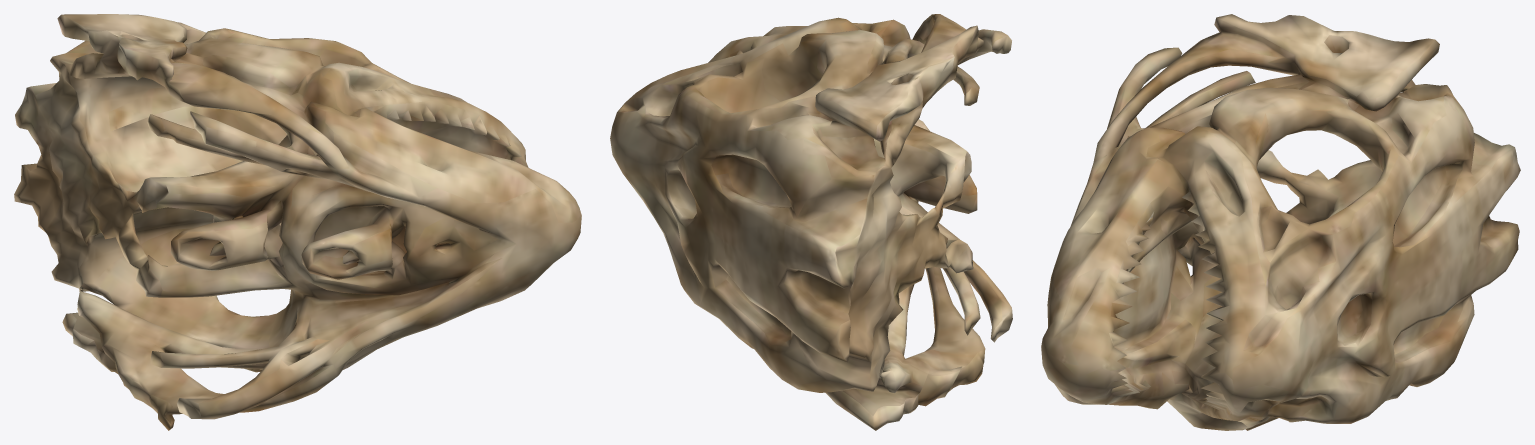
The model's file is bone_shard_l.glb.
3 renders of one model, left to right at view 1: azimuth 30°, elevation 25°; view 2: azimuth 150°, elevation 25°; view 3: azimuth 270°, elevation 25°, orthographic. The views are drawn at different scales.
Parts seen in each view (by area): view 1: bone_shard_l; view 2: bone_shard_l; view 3: bone_shard_l.
Boxes of the visible parts, <box> form: bone_shard_l: <box>14,14,581,430</box>; bone_shard_l: <box>610,14,1012,430</box>; bone_shard_l: <box>1041,14,1520,430</box>.
Size of the model in its own units: 0.3 by 0.2811 by 0.3267.
Materials: 1 (1 with a texture image).
